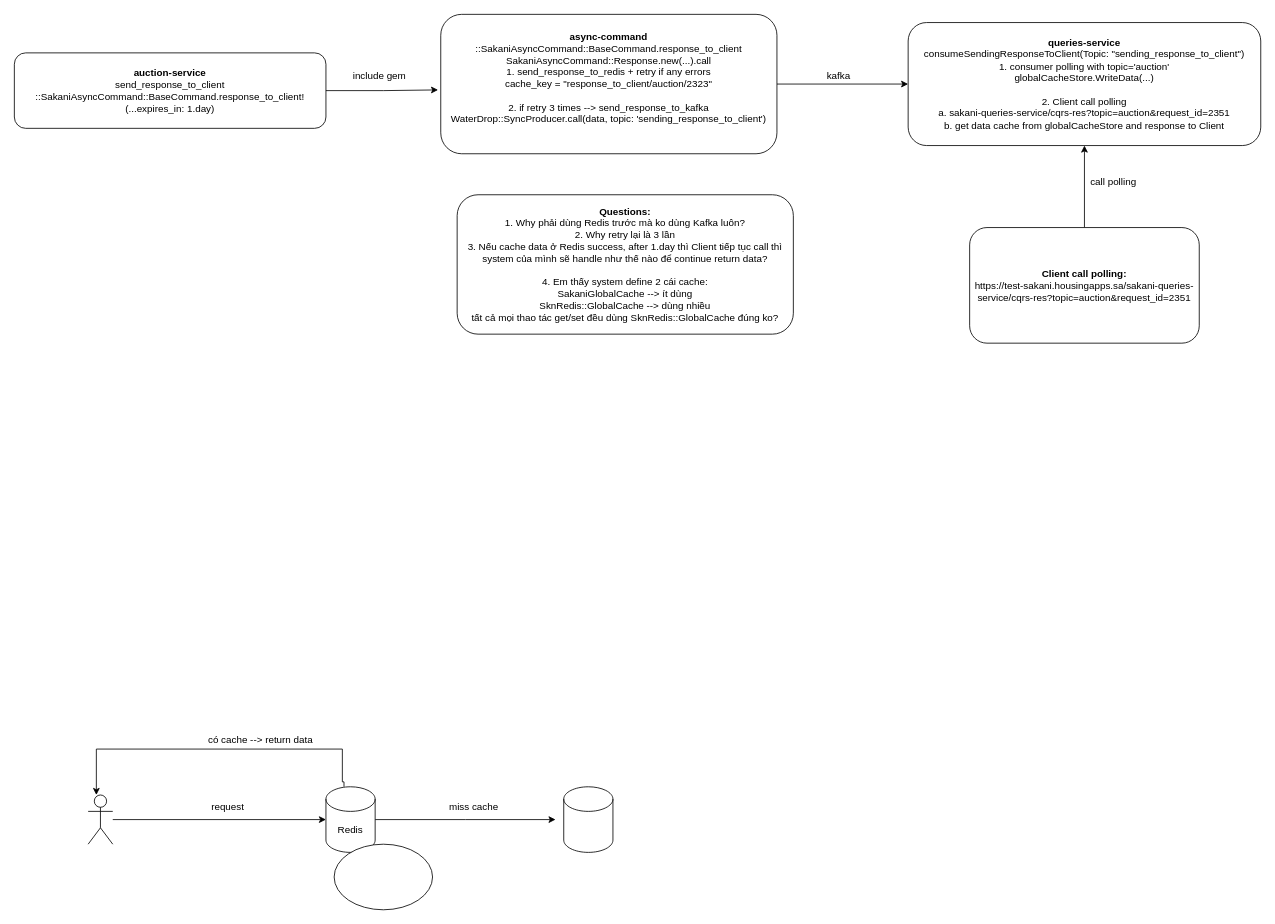
Some shapes in this 1275 by 924 pixel diagram are drawn without their labels. Here are the shapes that lost their labels. From the top down, the centre of each, then its label:
At point 100,819: "Actor".
At point 588,819: "MySQL".
